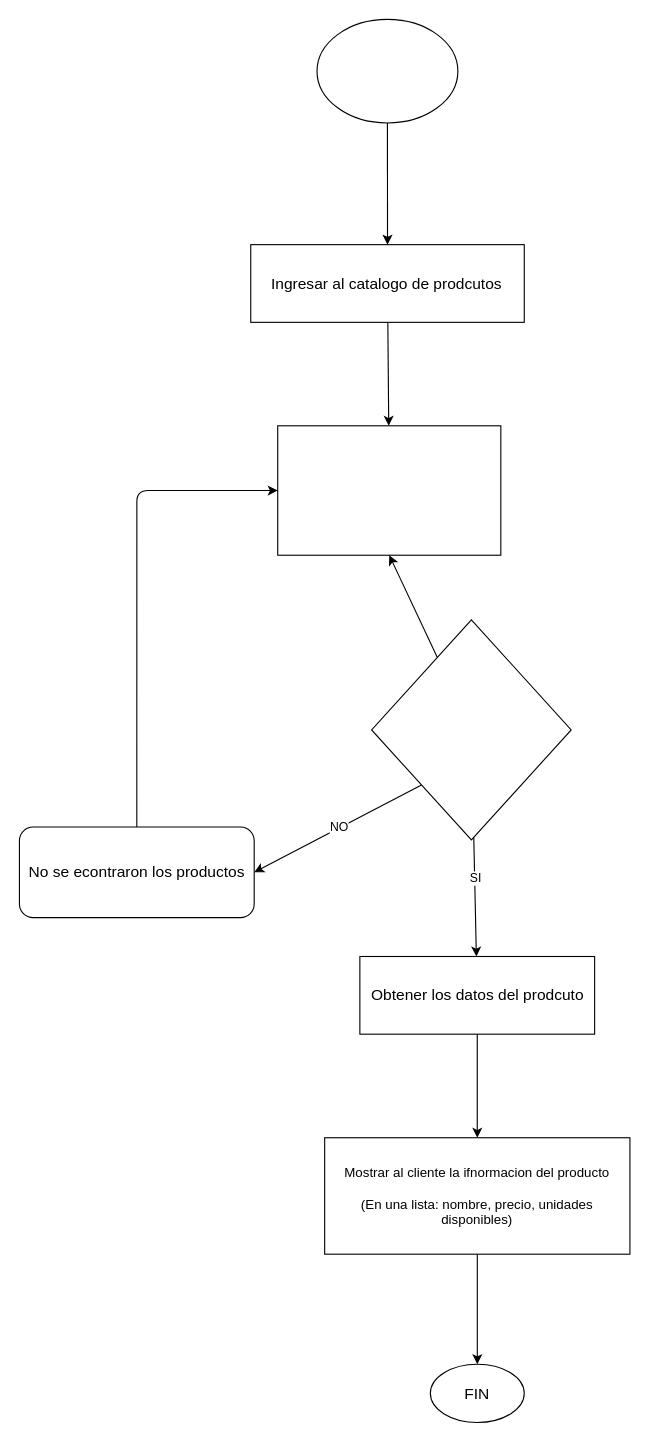
This 649x1442 diagram has some shape labels left out. The centre of each missing label's shape, as x and y in pixels:
"Buscar producto (Buscar por flitro (nombre/cateogria))" goes at [389,490].
"INICIO" goes at [387,70].
"¿Existe el producto?" goes at [471,729].
